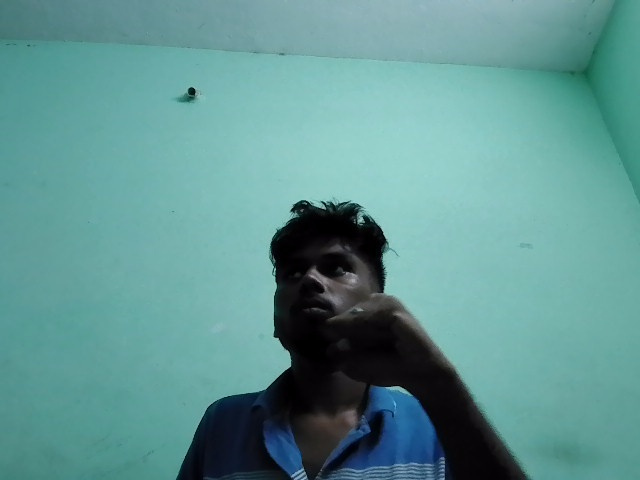Yes: (309, 286, 476, 403)
